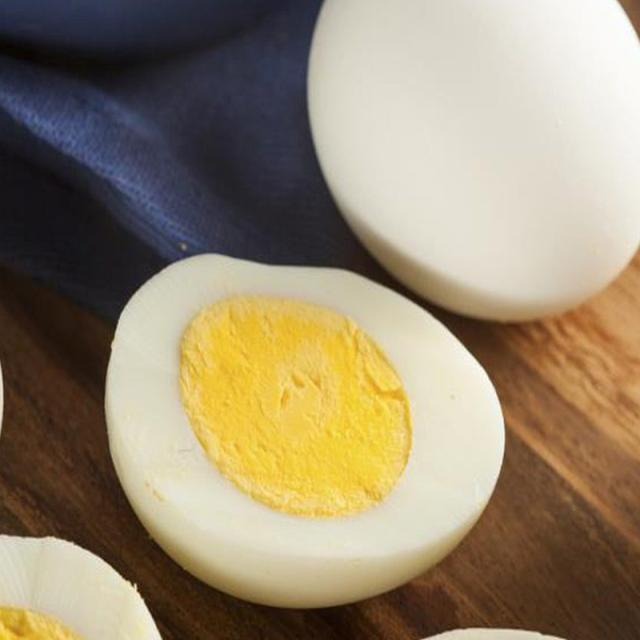trung luoc: (106, 255, 504, 604), (307, 0, 639, 320), (2, 534, 161, 639)
